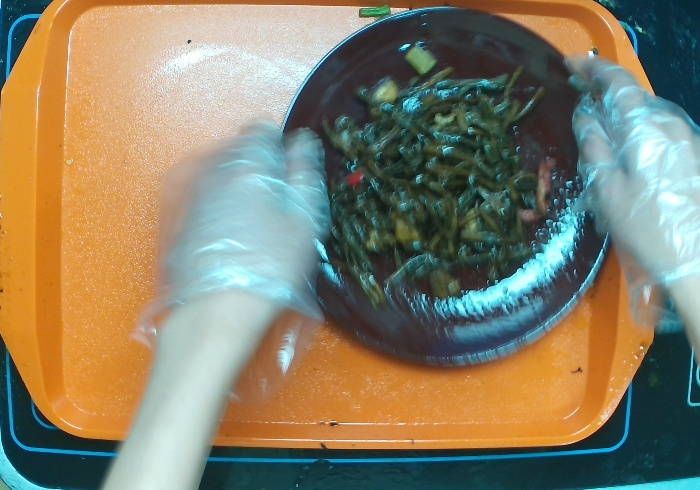HZYJPL-Ka_Fei_Yuan_Pan: (276, 1, 643, 366)
